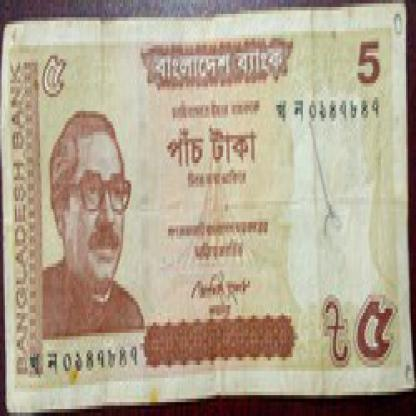Five Taka: (161, 114, 263, 170), (354, 284, 400, 374), (353, 31, 386, 94), (36, 49, 70, 104)
